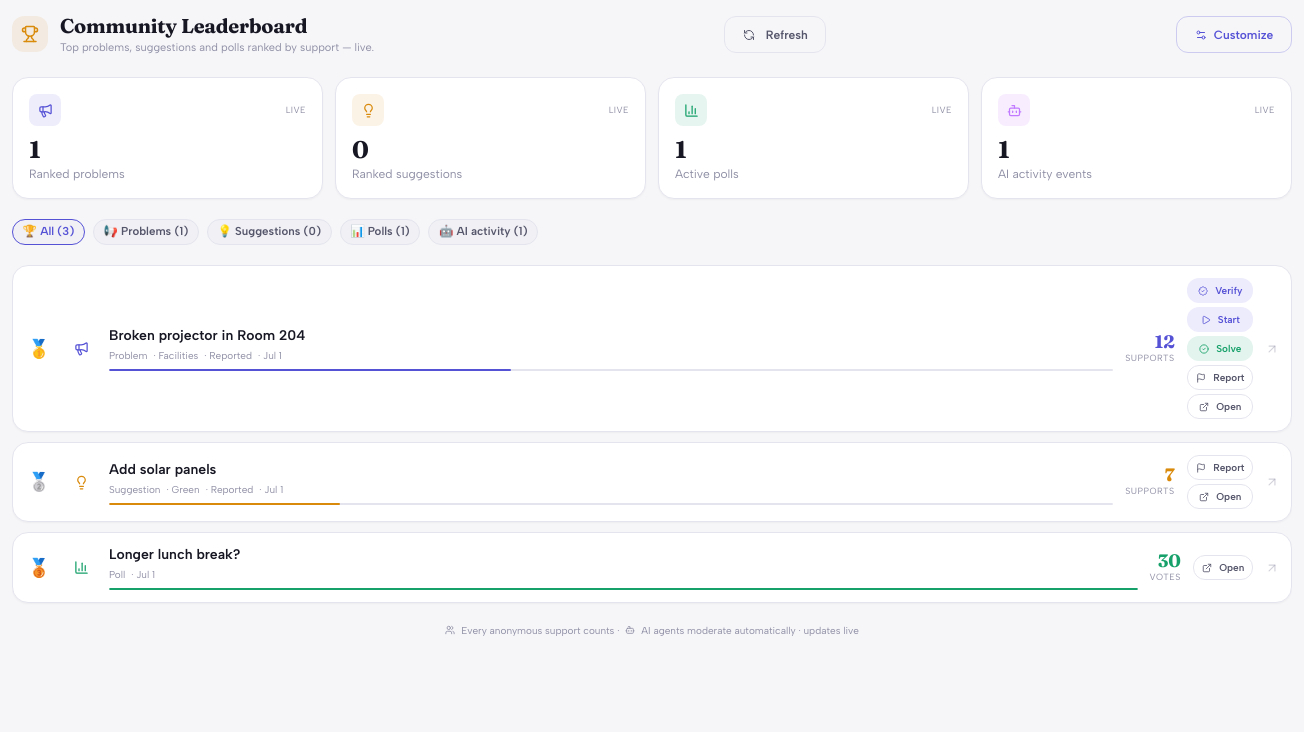
Scenario: AdminLeaderboard — tabs and lists › shows the empty state on a tab with no items
The width and height of the screenshot is (1304, 732).
Expected: the text "Broken projector in Room 204" is shown, [109,327,305,344]
What coordinates should you click on to do the following:
click the button "💡 Suggestions (0)"
I would click on:
 (269, 232)
Its box is [207,218,332,245].
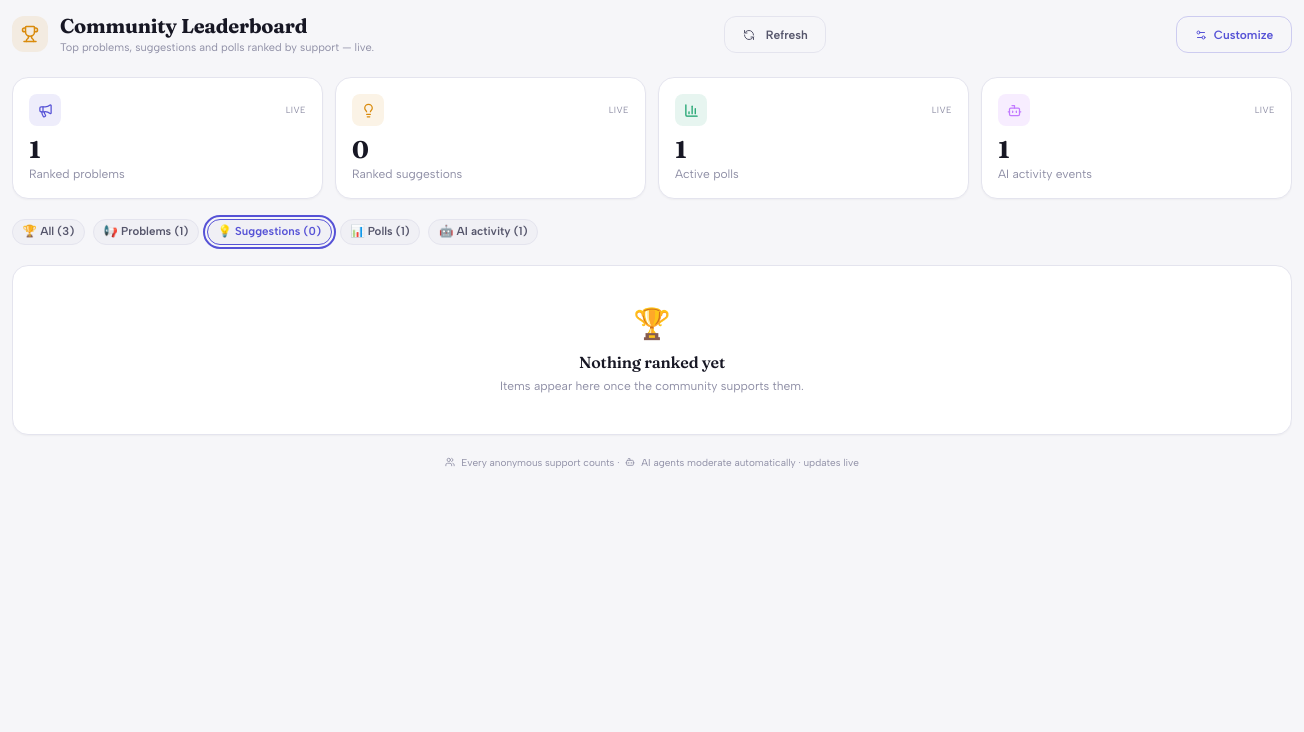
Now the text "Nothing ranked yet" is shown, box [579,352,725,372]
